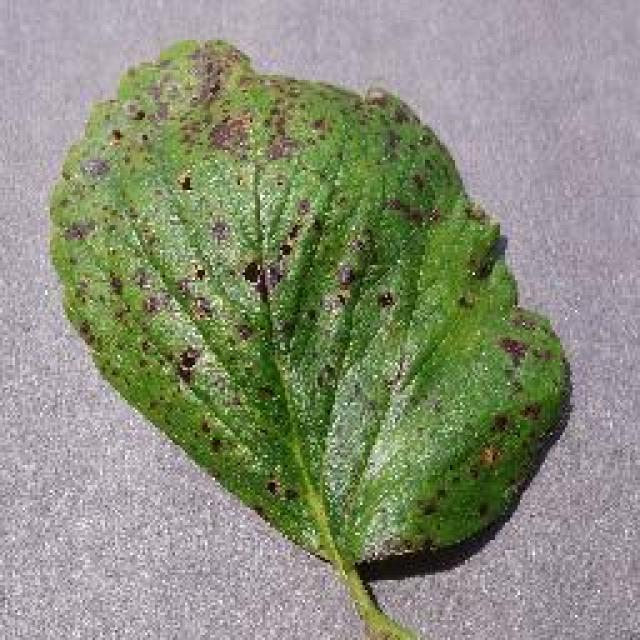Strawberry leaf scorch: (104, 112, 404, 398)
